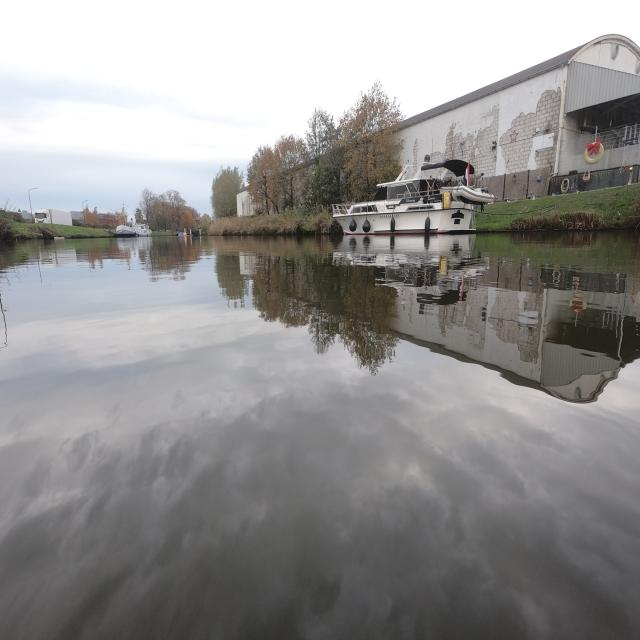boat: (333, 177, 493, 235), (115, 224, 148, 237)
grass: (474, 183, 639, 229)
reed: (202, 208, 333, 235)
tree: (340, 81, 402, 199), (248, 135, 308, 214), (307, 109, 344, 205)
water: (1, 230, 638, 639)
